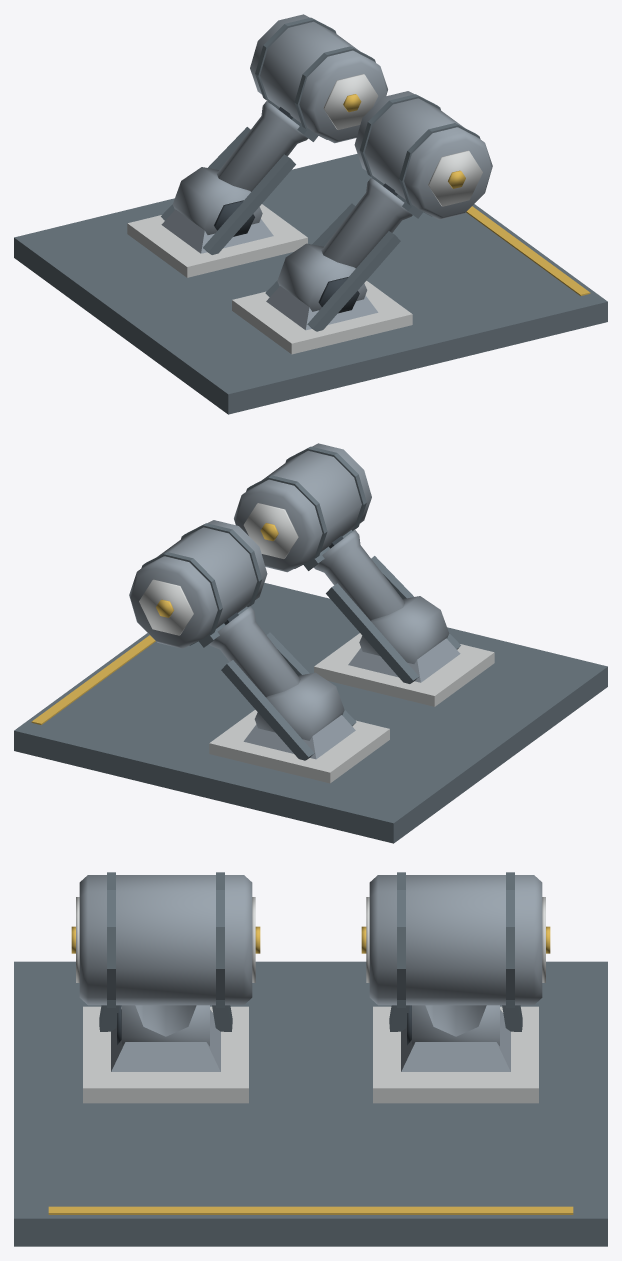
File: MOD_DepthChargeProjector.glb
3 views of the same model, one above another, from view 1: azimuth 30°, elevation 25°; view 2: azimuth 150°, elevation 25°; view 3: azimuth 270°, elevation 25° (orthographic). The views are drawn at different scales.
Visible parts, largest first — view 1: FixedSideProjectorFoundation, LoadedDepthChargeBody_01, LoadedDepthChargeBody_02, ProjectorDeckFoot_01, ProjectorDeckFoot_02, ShortFixedProjectionBarrel_01, ShortFixedProjectionBarrel_02, ExpansionChamber_02, ExpansionChamber_01, ProjectionBarrelBrace_01_Aft, ProjectionBarrelBrace_02_Aft, ChargeEndPlate_01_Aft (+10 smaller); view 2: FixedSideProjectorFoundation, LoadedDepthChargeBody_02, LoadedDepthChargeBody_01, ProjectorDeckFoot_02, ProjectorDeckFoot_01, ShortFixedProjectionBarrel_02, ShortFixedProjectionBarrel_01, ExpansionChamber_01, ExpansionChamber_02, ProjectionBarrelBrace_01_Fore, ProjectionBarrelBrace_02_Fore, ChargeEndPlate_02_Fore (+10 smaller); view 3: FixedSideProjectorFoundation, LoadedDepthChargeBody_01, LoadedDepthChargeBody_02, ProjectorDeckFoot_01, ProjectorDeckFoot_02, OutboardDeckEdgeStripe, FixedProjectorPedestal_01, FixedProjectorPedestal_02, ExpansionChamber_01, ExpansionChamber_02, ShortFixedProjectionBarrel_01, ShortFixedProjectionBarrel_02 (+4 smaller).
Boxes of the visible parts, x1,y1,x2,y2 form: FixedSideProjectorFoundation: (14, 153, 607, 414); LoadedDepthChargeBody_01: (354, 91, 492, 219); LoadedDepthChargeBody_02: (250, 14, 387, 143); ProjectorDeckFoot_01: (232, 280, 412, 354); ProjectorDeckFoot_02: (127, 204, 307, 277); ShortFixedProjectionBarrel_01: (321, 178, 412, 268); ShortFixedProjectionBarrel_02: (217, 101, 307, 191); ExpansionChamber_02: (172, 167, 262, 234); ExpansionChamber_01: (277, 243, 367, 311); ProjectionBarrelBrace_01_Aft: (307, 231, 400, 331); ProjectionBarrelBrace_02_Aft: (203, 154, 295, 254); ChargeEndPlate_01_Aft: (428, 150, 482, 206); FixedSideProjectorFoundation: (14, 582, 607, 843); LoadedDepthChargeBody_02: (129, 520, 267, 648); LoadedDepthChargeBody_01: (234, 443, 371, 572); ProjectorDeckFoot_02: (209, 709, 389, 783); ProjectorDeckFoot_01: (314, 633, 494, 706); ShortFixedProjectionBarrel_02: (209, 607, 300, 697); ShortFixedProjectionBarrel_01: (314, 530, 404, 620); ExpansionChamber_01: (359, 596, 449, 663); ExpansionChamber_02: (254, 672, 344, 740); ProjectionBarrelBrace_01_Fore: (326, 583, 418, 683); ProjectionBarrelBrace_02_Fore: (221, 660, 314, 760); ChargeEndPlate_02_Fore: (139, 579, 193, 635); FixedSideProjectorFoundation: (14, 961, 607, 1246); LoadedDepthChargeBody_01: (79, 875, 252, 1005); LoadedDepthChargeBody_02: (369, 875, 542, 1005); ProjectorDeckFoot_01: (83, 1006, 248, 1103); ProjectorDeckFoot_02: (373, 1006, 538, 1103); OutboardDeckEdgeStripe: (48, 1206, 573, 1214); FixedProjectorPedestal_01: (111, 1009, 220, 1071); FixedProjectorPedestal_02: (401, 1009, 510, 1071); ExpansionChamber_01: (122, 1005, 209, 1046); ExpansionChamber_02: (412, 1005, 499, 1046); ShortFixedProjectionBarrel_01: (135, 1005, 196, 1036); ShortFixedProjectionBarrel_02: (425, 1005, 486, 1036).
Size of the model in its own units: 1.76 by 0.8883 by 1.72.
